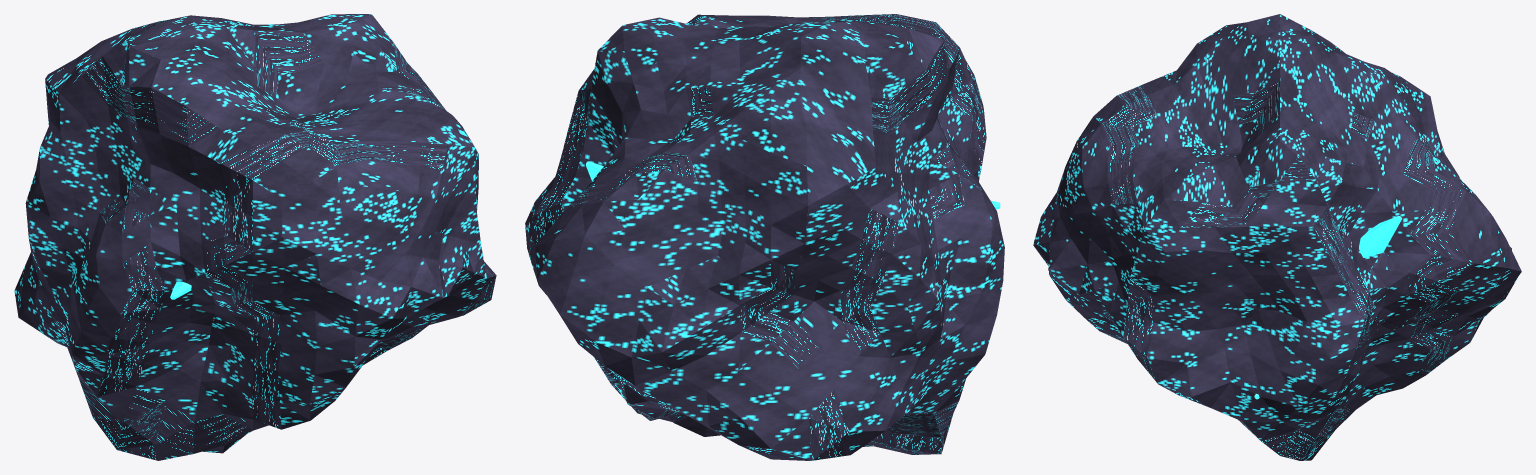
Rendered from ast_crystal_geode.glb.
The picture shows the model from 3 angles, left to right: view 1: azimuth 30°, elevation 25°; view 2: azimuth 150°, elevation 25°; view 3: azimuth 270°, elevation 25°; orthographic projection. The views are drawn at different scales.
Parts seen in each view (by area): view 1: ast_crystal_geode; view 2: ast_crystal_geode; view 3: ast_crystal_geode.
Boxes of the visible parts, x1,y1,x2,y2 form: ast_crystal_geode: (14,14,496,460); ast_crystal_geode: (525,14,1004,460); ast_crystal_geode: (1033,14,1521,460).
Size of the model in its own units: 4.8 by 4.78 by 5.74.
Materials: 1 (1 with a texture image).
